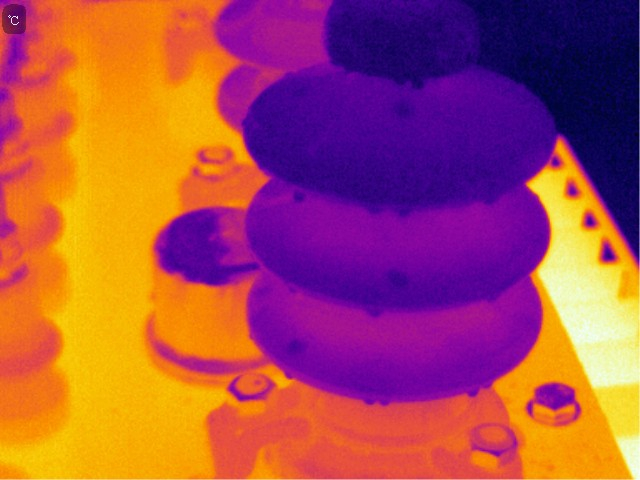Water: (386, 268, 413, 287), (285, 340, 312, 356), (392, 97, 411, 117), (364, 304, 387, 318), (370, 15, 390, 29), (412, 75, 427, 93), (290, 189, 309, 203), (395, 204, 414, 218), (363, 201, 382, 215), (329, 50, 342, 70), (467, 385, 482, 400), (286, 282, 299, 298), (484, 292, 500, 305), (433, 22, 446, 37), (485, 193, 497, 209), (396, 73, 406, 90), (294, 85, 308, 97), (281, 369, 294, 381), (344, 62, 355, 76), (463, 50, 474, 64), (378, 396, 390, 408), (364, 396, 375, 408), (246, 329, 256, 342)
